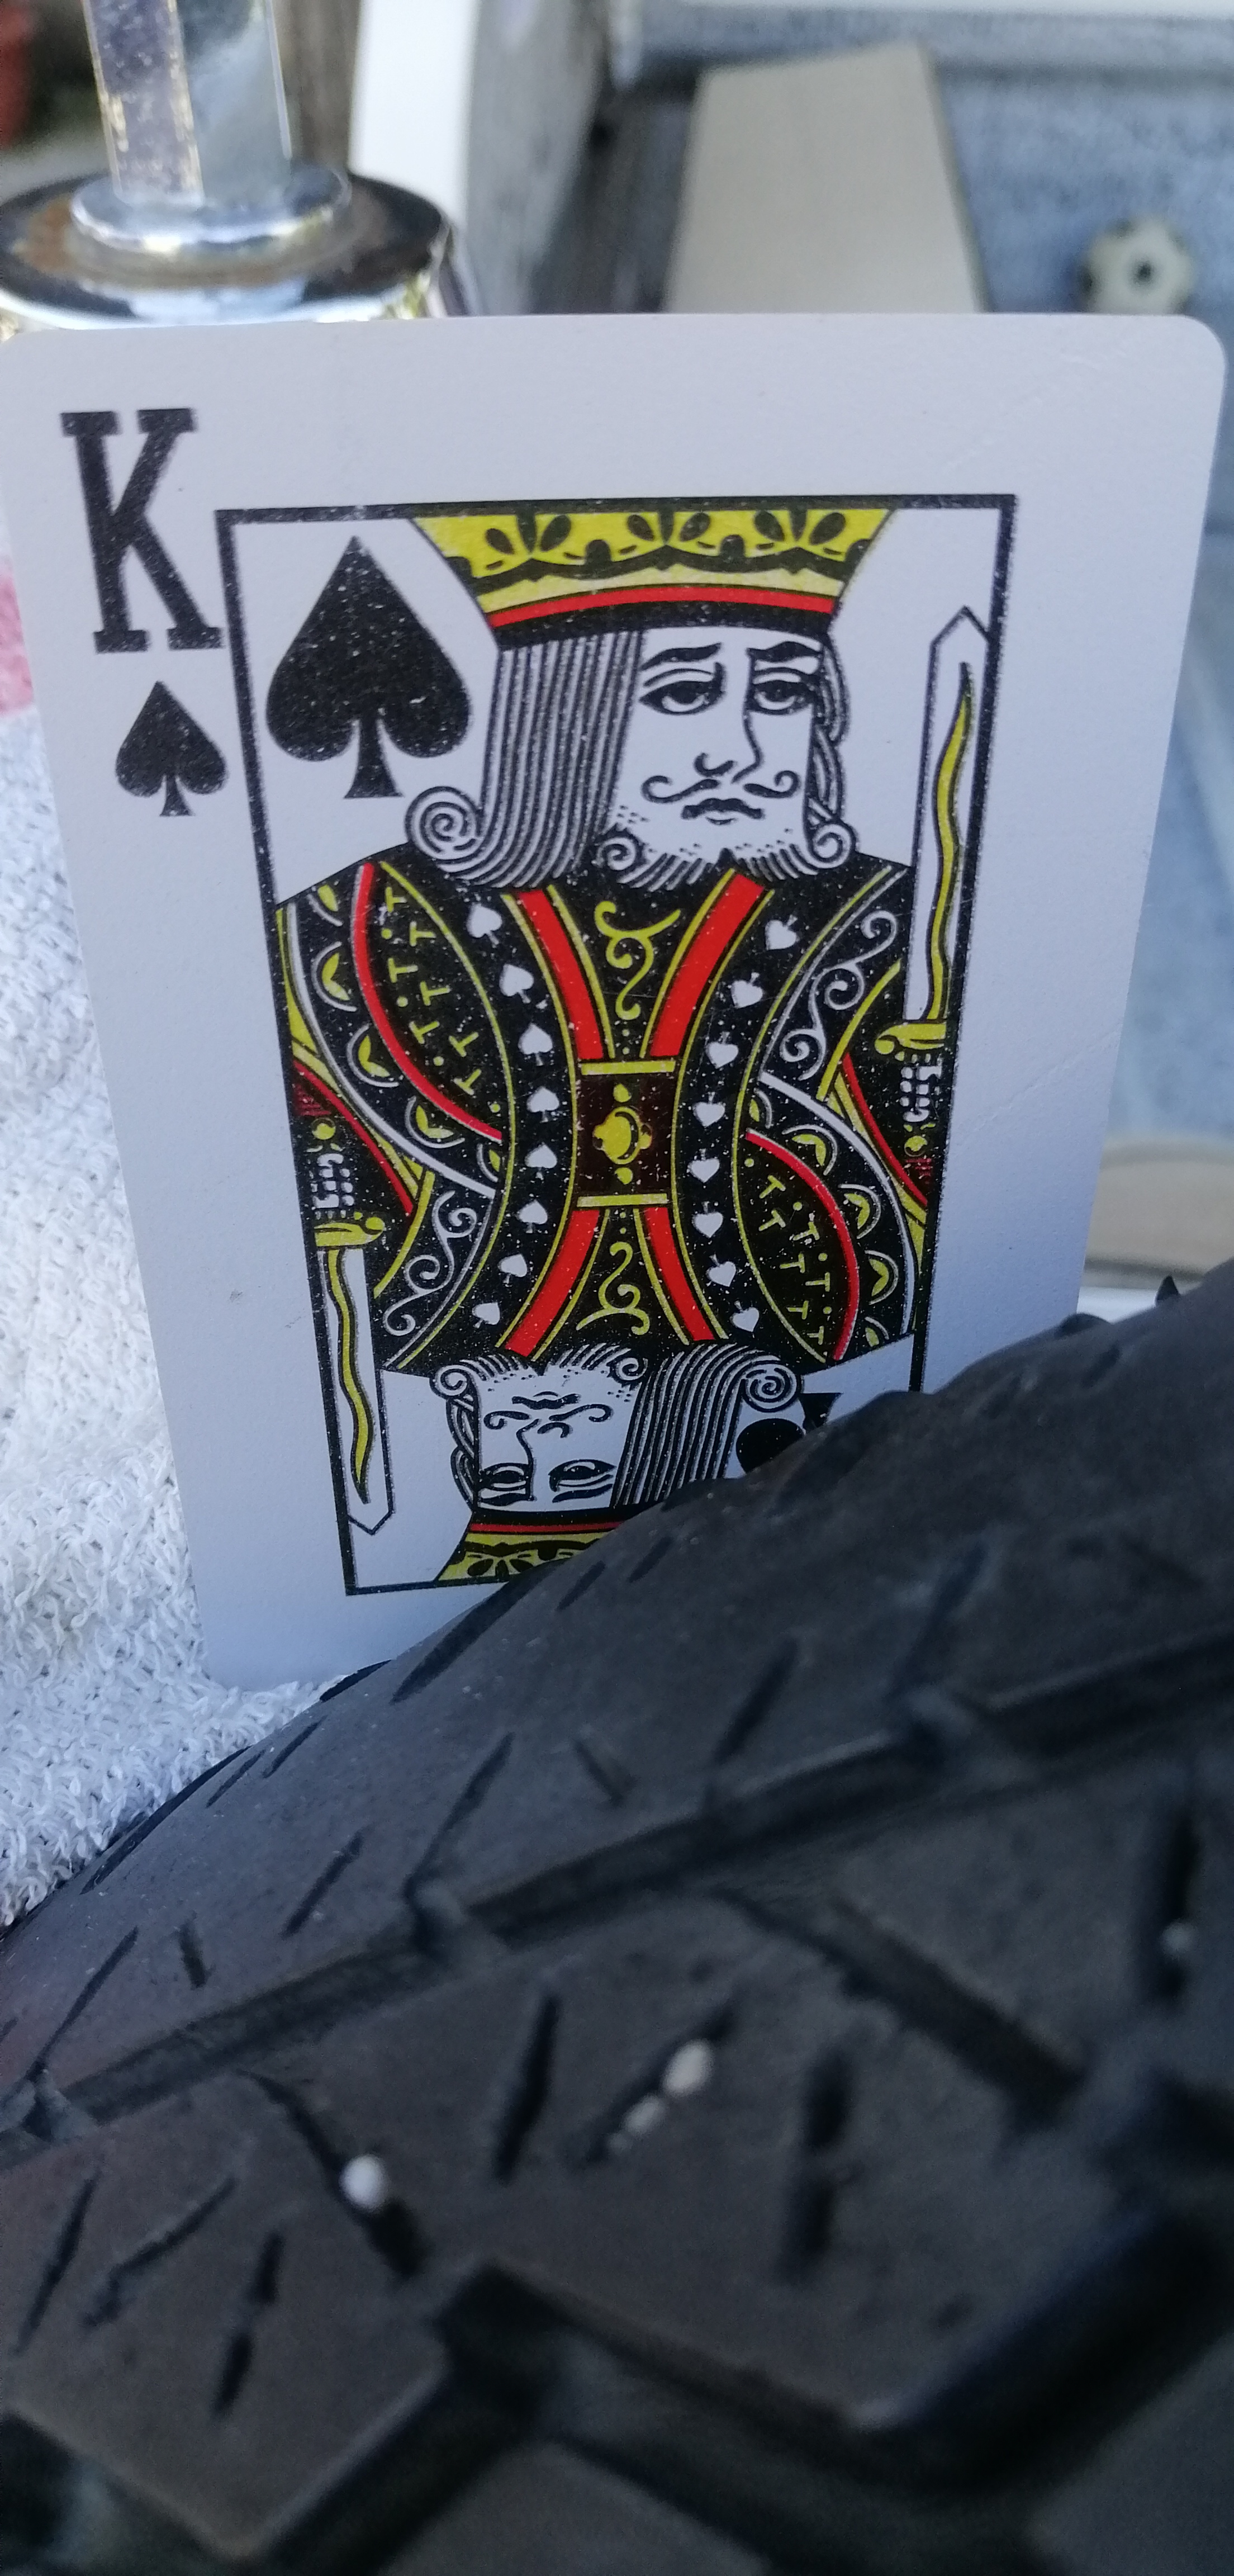king: (0, 314, 1122, 1566)
